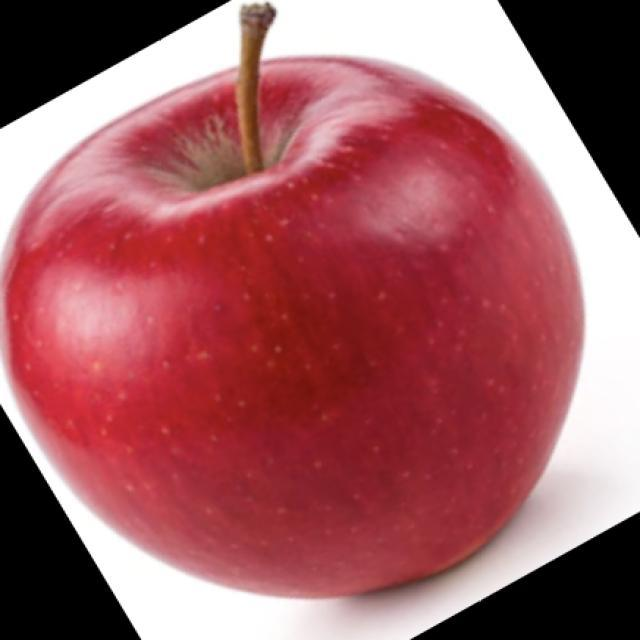Apple: (0, 0, 586, 600)
